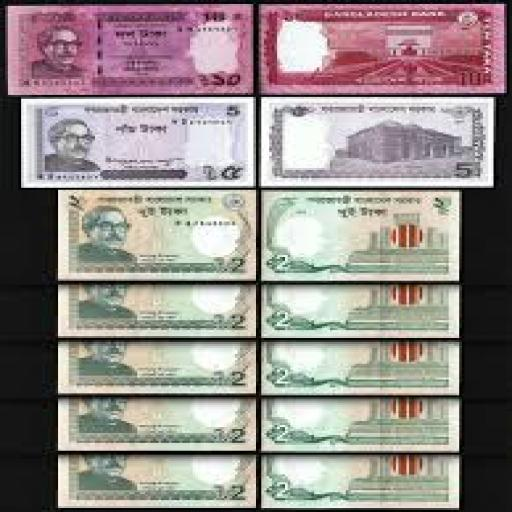10taka: (261, 4, 504, 91), (11, 4, 248, 93)
2taka: (58, 190, 253, 275), (264, 192, 457, 277), (264, 285, 457, 336), (264, 342, 457, 393), (61, 285, 253, 334), (61, 342, 253, 391)
5taka: (24, 99, 251, 186), (264, 97, 491, 184)
